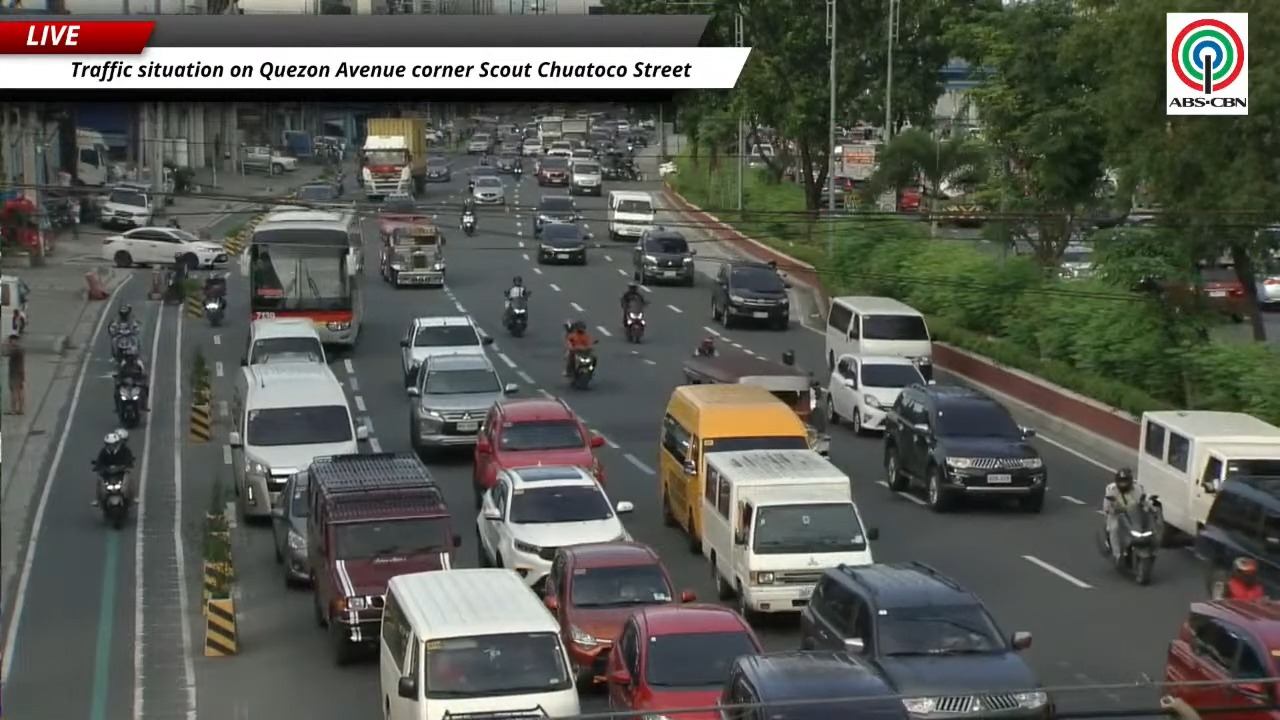bus: (245, 208, 363, 348)
car: (800, 562, 1053, 719), (544, 541, 695, 687), (883, 384, 1047, 512), (476, 465, 632, 591), (677, 651, 964, 719), (606, 603, 761, 719), (472, 398, 604, 506), (1162, 600, 1279, 719), (1194, 459, 1279, 597), (406, 352, 517, 453), (826, 354, 927, 433), (400, 315, 492, 387), (102, 226, 227, 269), (712, 261, 789, 329), (272, 473, 310, 586), (632, 227, 695, 286), (1198, 266, 1248, 321), (99, 186, 158, 228), (378, 194, 434, 238), (536, 223, 590, 264), (533, 195, 580, 235), (378, 193, 430, 218), (1059, 243, 1093, 279), (569, 159, 602, 196), (536, 151, 569, 185), (294, 182, 340, 204), (472, 176, 504, 204), (1256, 272, 1279, 308), (426, 156, 451, 182), (495, 151, 520, 173), (466, 133, 492, 154), (546, 140, 572, 156), (521, 137, 541, 156), (470, 165, 497, 179), (571, 148, 594, 163), (625, 133, 648, 147), (499, 140, 520, 155), (659, 161, 677, 176), (615, 120, 631, 136)
motorcycle: (1099, 496, 1161, 585), (93, 462, 129, 529), (115, 378, 142, 428), (571, 349, 596, 389), (504, 296, 527, 337), (112, 332, 139, 363), (624, 308, 645, 343), (204, 298, 224, 326), (461, 213, 476, 236), (622, 164, 642, 180), (513, 165, 521, 178), (467, 180, 474, 194)
truck: (302, 453, 460, 662), (701, 448, 878, 618), (360, 118, 427, 199), (75, 127, 109, 186), (835, 142, 879, 181), (538, 115, 563, 150), (562, 118, 589, 141)
